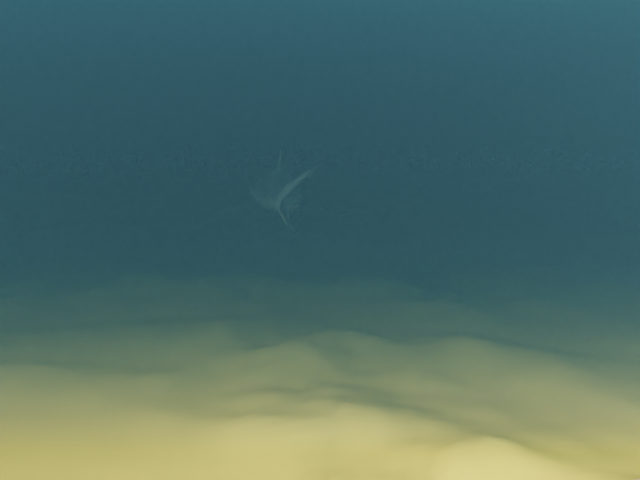Carribean Shark.001: (210, 143, 349, 233)
